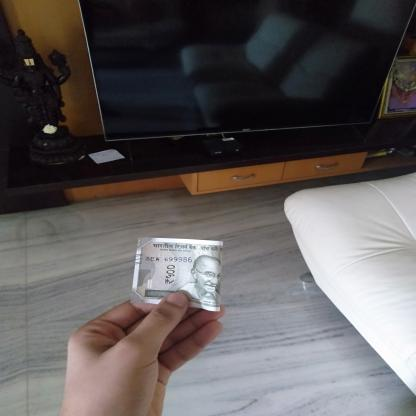New500Front: (134, 238, 222, 308)
